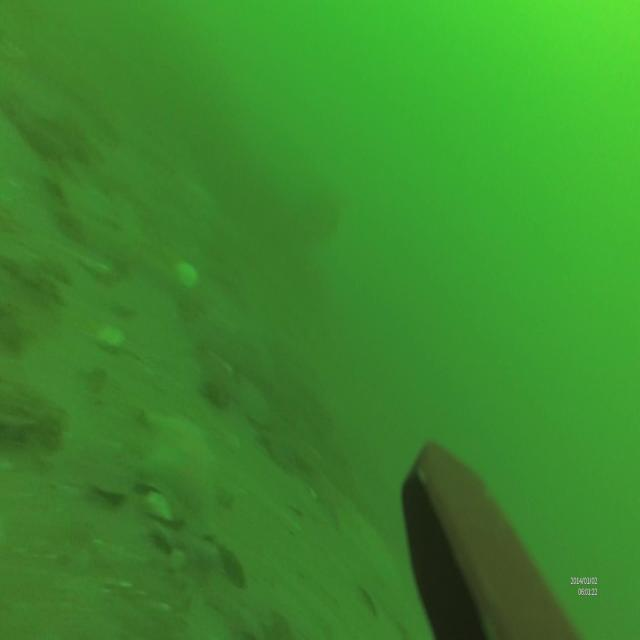starfish: (135, 406, 219, 536)
